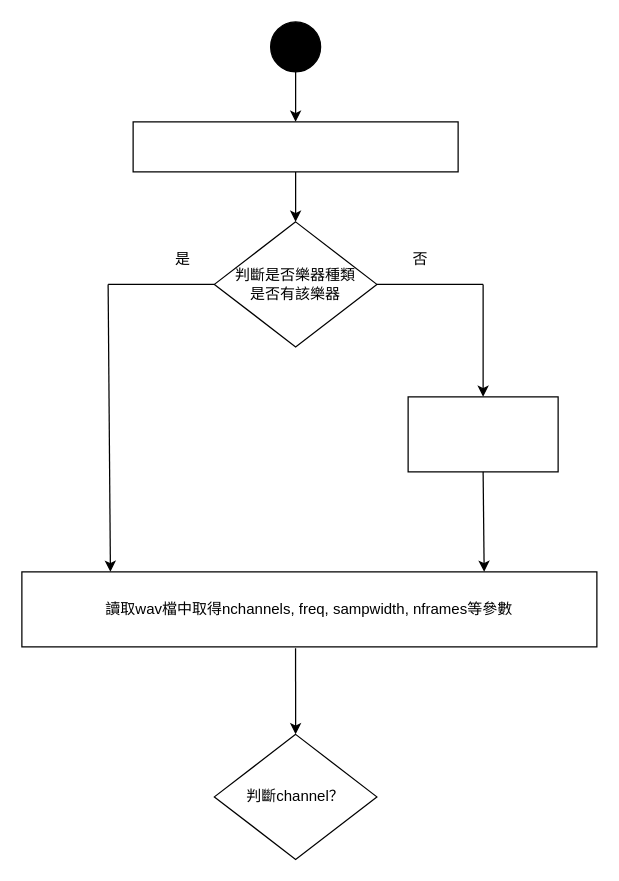
The diagram is 619 pixels wide and 881 high, and some of its shapes have lost their labels. The centre of each missing label's shape, as x and y in pixels:
"在instructment種類中新增樂器" goes at [482,434].
"輸入wav檔及以檔名判斷樂器" goes at [295,146].
